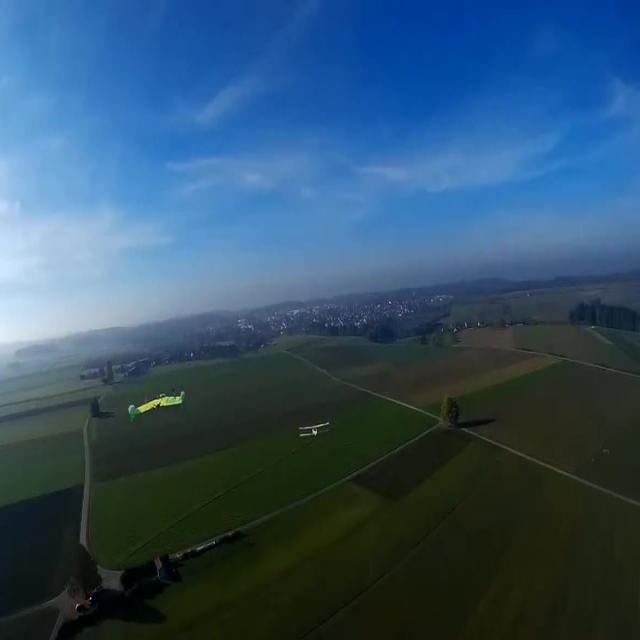iha: (127, 388, 185, 424), (298, 420, 330, 437)
